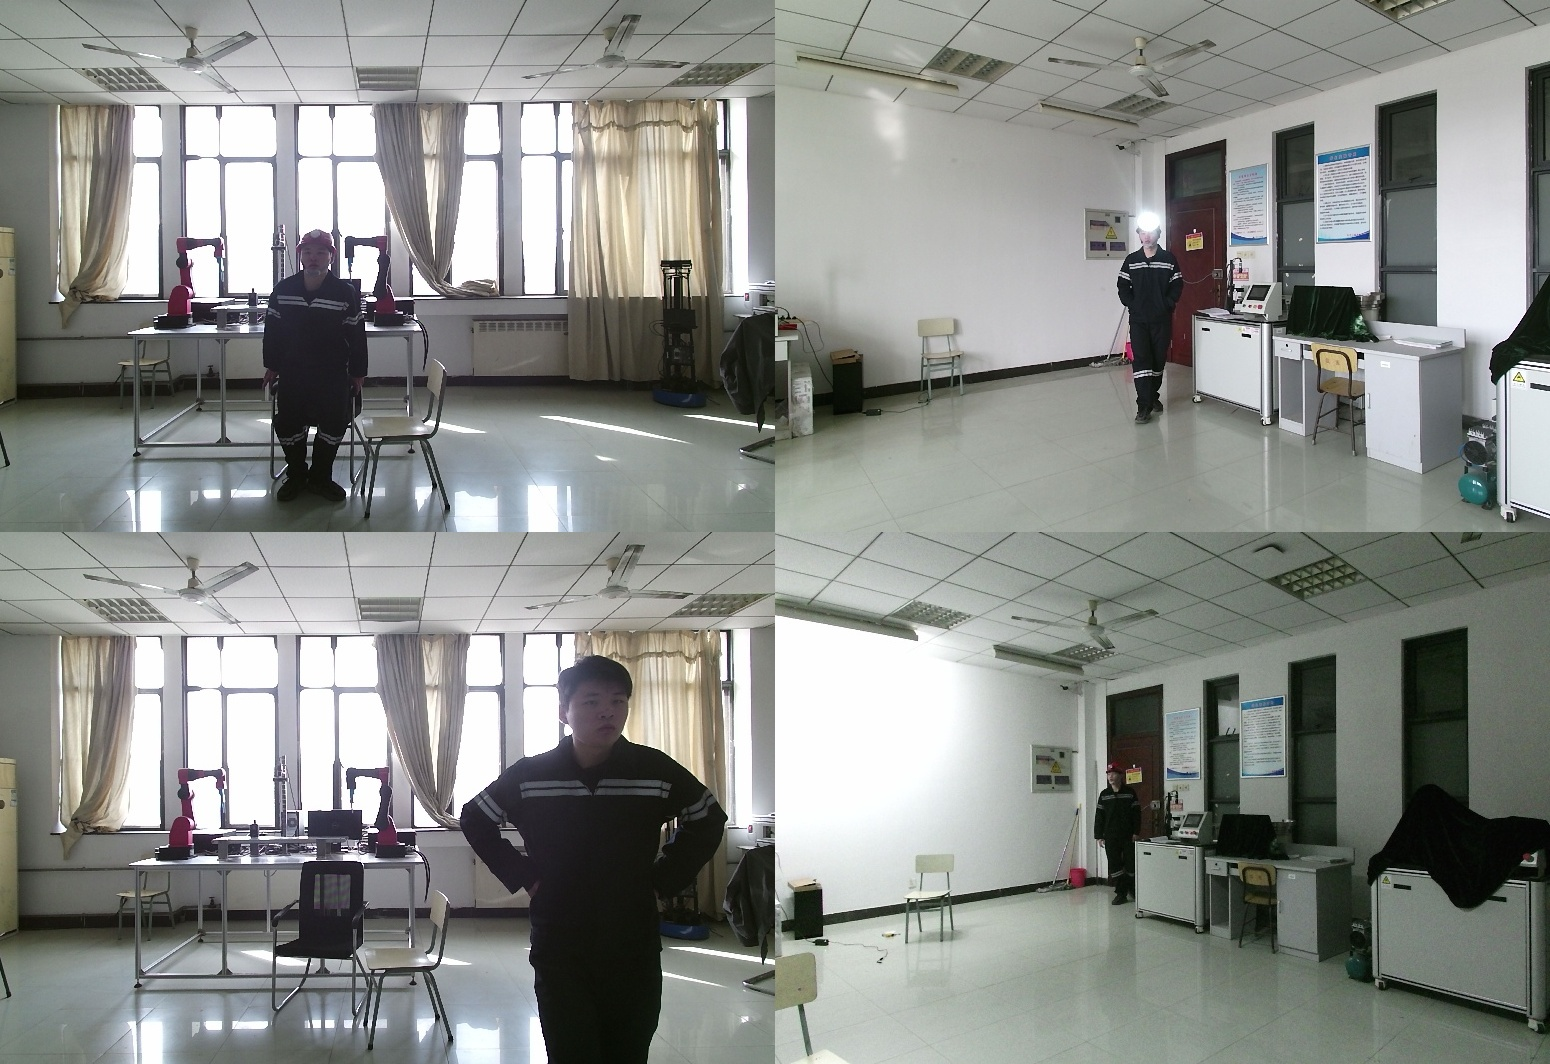person: (472, 660, 737, 1064), (262, 230, 376, 500), (1114, 221, 1189, 429), (1091, 761, 1150, 911)
